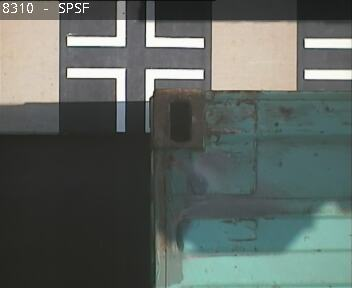groundmarker_1: (65, 65, 203, 131), (66, 1, 205, 48)
